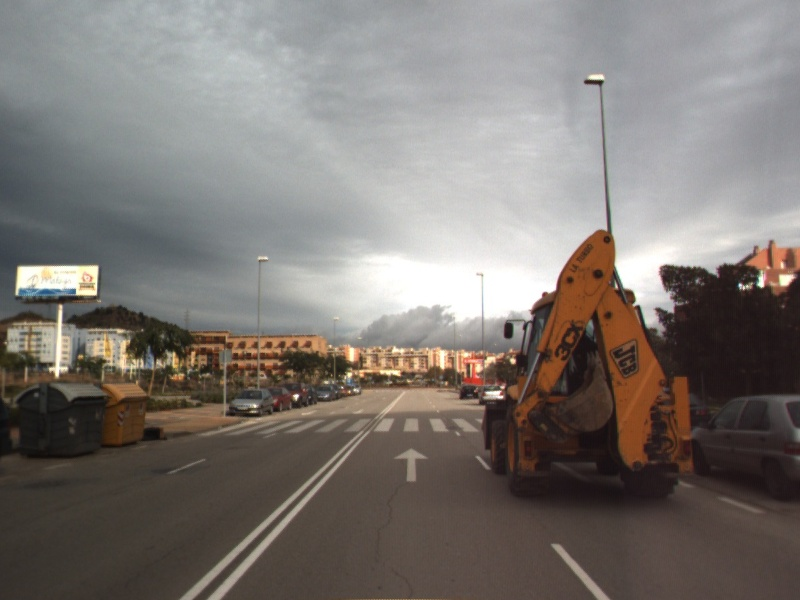STRAIGHT: (392, 446, 431, 484)
